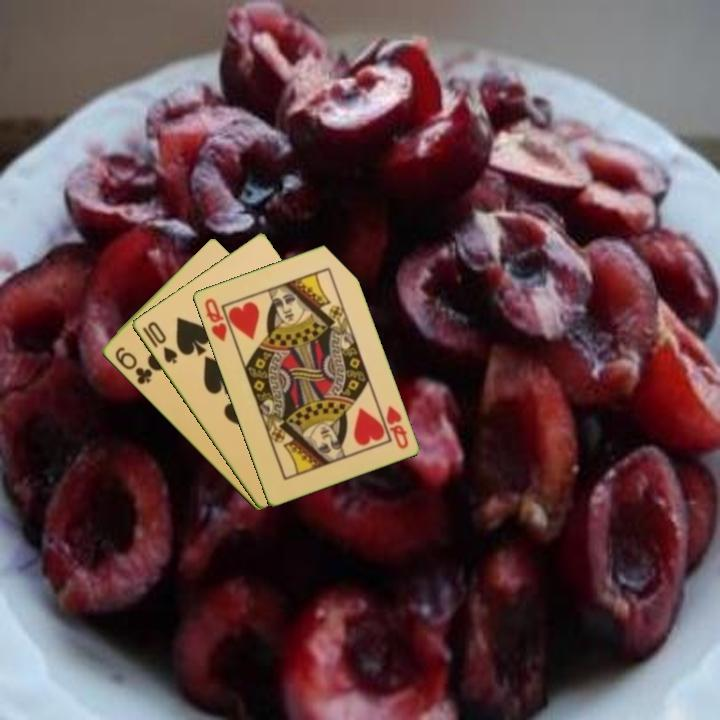10s: (143, 318, 180, 367)
6c: (111, 343, 155, 388)
Qh: (201, 294, 230, 344), (382, 402, 411, 452)
